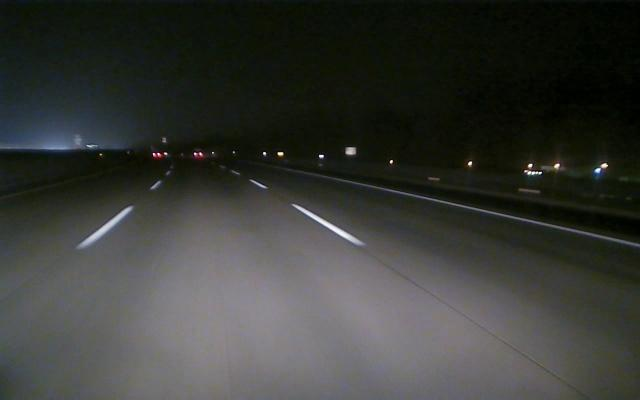lane: (289, 169, 639, 249), (252, 181, 366, 244), (73, 179, 161, 249)
